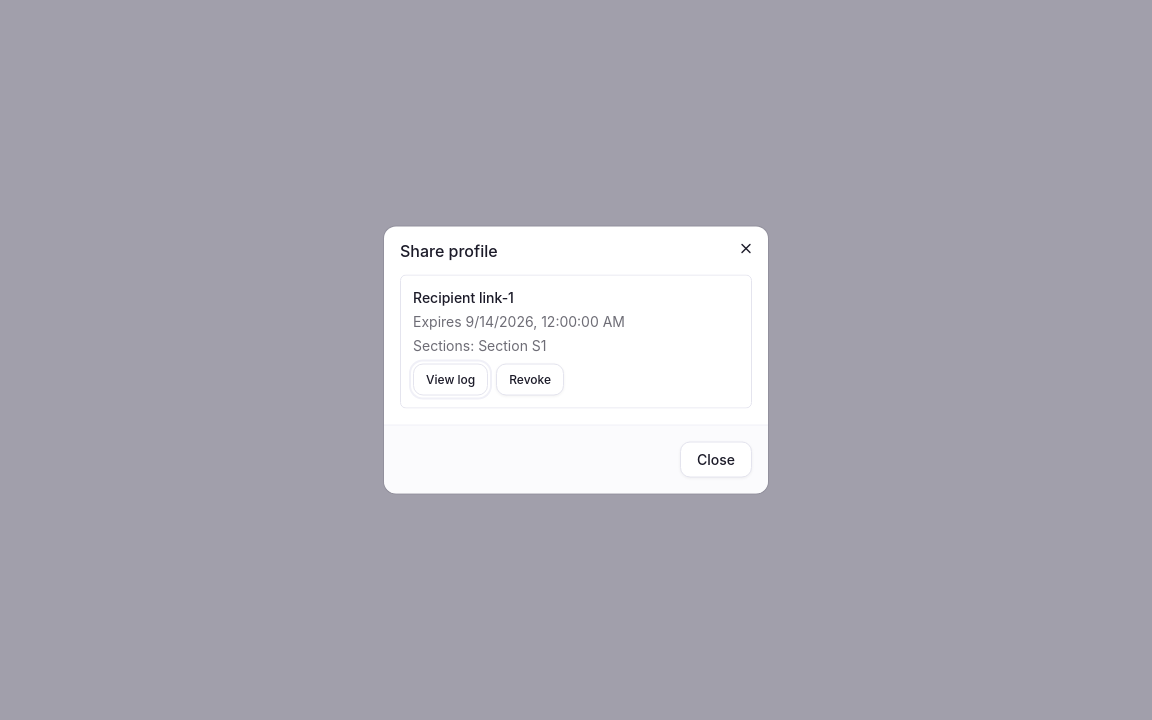
Scenario: SharedLinkManagerDialog revoke confirm › cancels the confirm and returns focus to the revoke button
Click the button with test id "shared-link-revoke-link-1": (530, 380) [496,364,564,396]
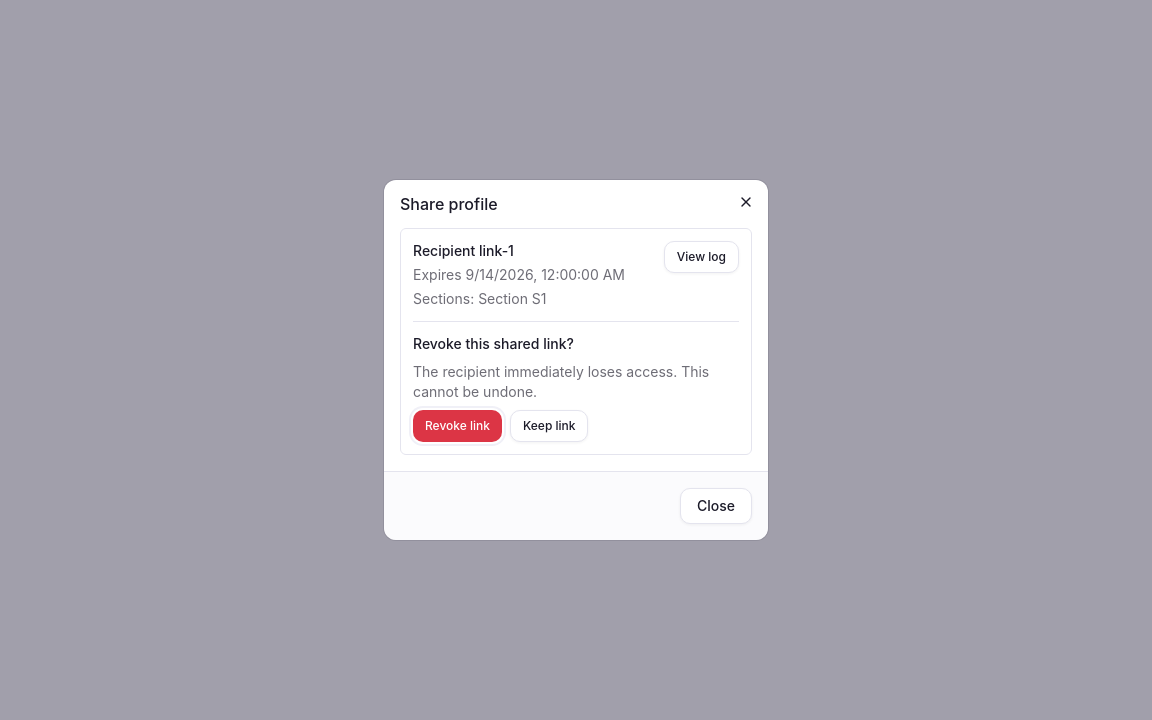
Click the button with test id "shared-link-revoke-cancel-link-1": (549, 426) [510,410,588,442]
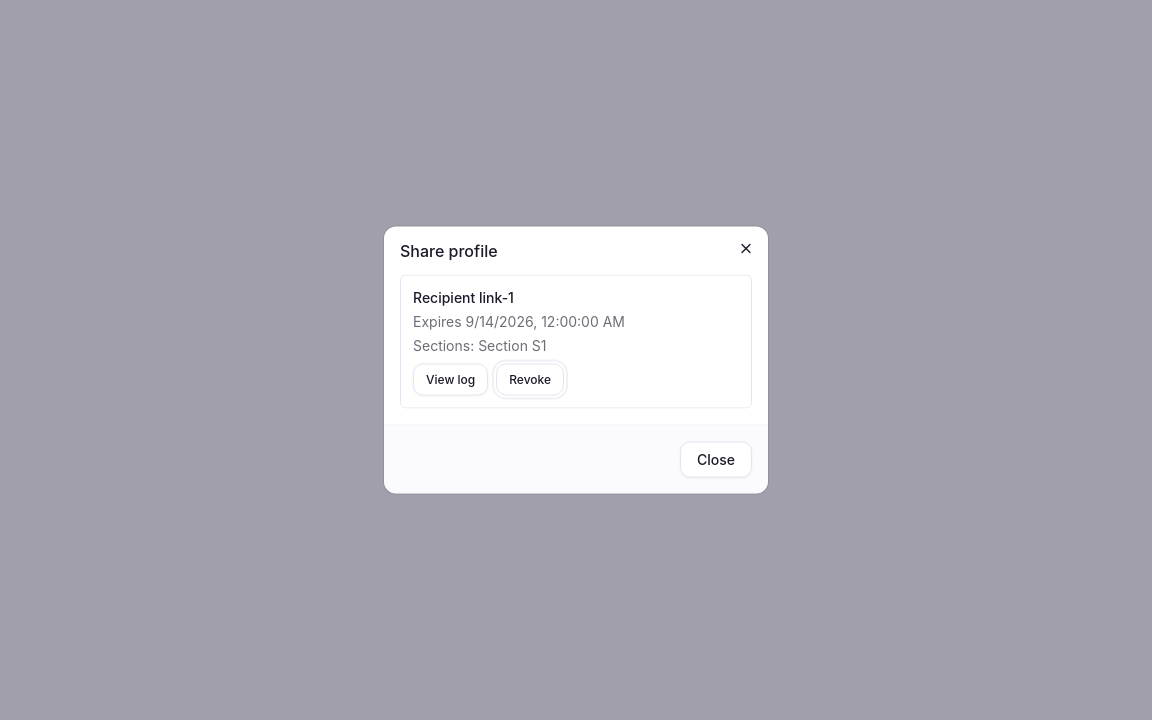
Result: the element with test id "shared-link-revoke-confirm-link-1" is gone
